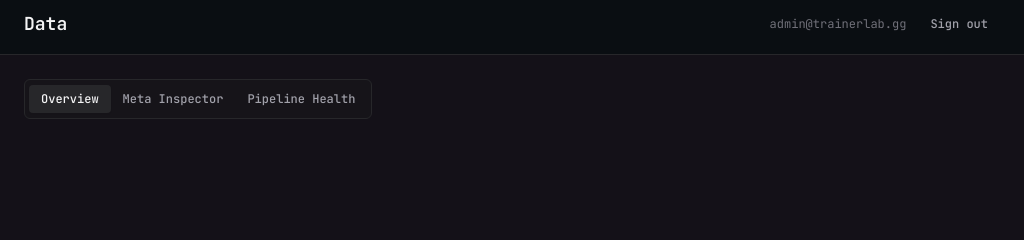
Test: AdminDataPage › renders pipeline health tab
Click the tab "Pipeline Health" at (301, 99), box [235,85,367,113]
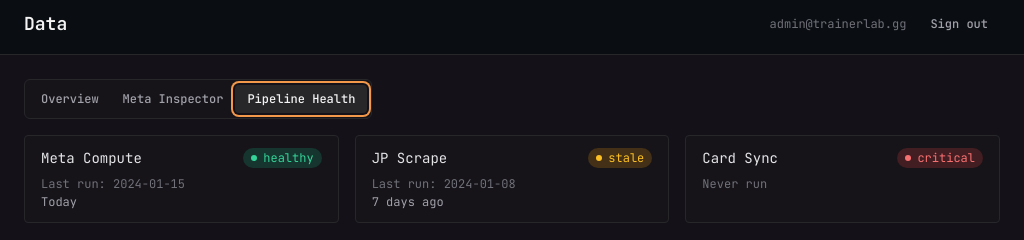
Result: the text "Meta Compute" is shown at [41,148,142,168]
Result: the text "healthy" is shown at [243,148,322,168]
Result: the text "stale" is shown at [588,148,652,168]
